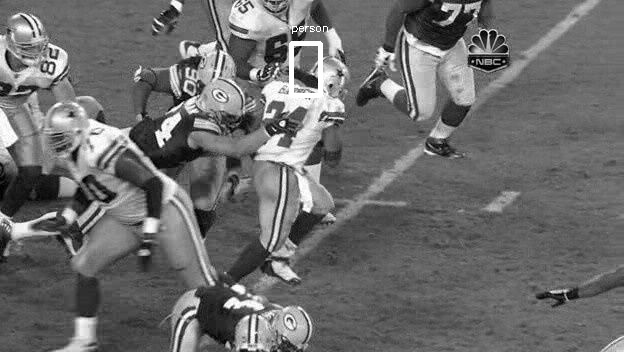person: (313, 57, 348, 101), (312, 57, 347, 101), (314, 57, 349, 101), (313, 56, 348, 100), (313, 58, 348, 102)
target_negative: (10, 231, 452, 308), (165, 200, 383, 278), (311, 215, 446, 321), (368, 259, 458, 321), (404, 203, 480, 228), (410, 342, 443, 345)
